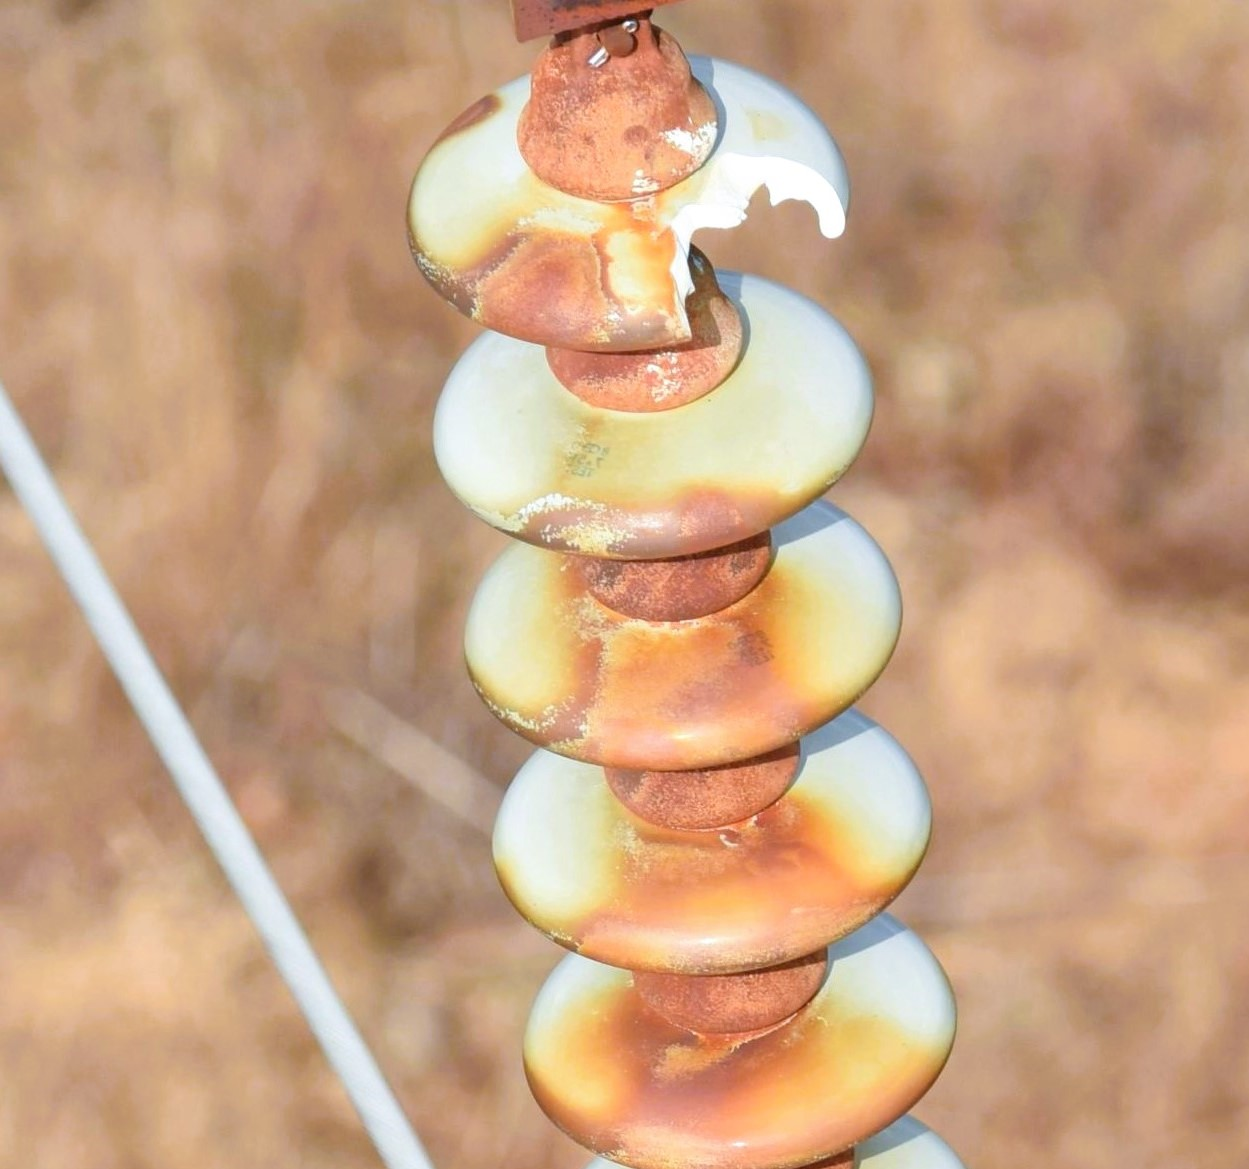insulator breakage: (367, 35, 866, 365)
